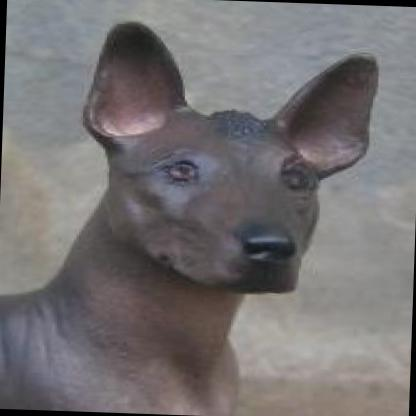Mexican_hairless: (0, 15, 377, 416)
